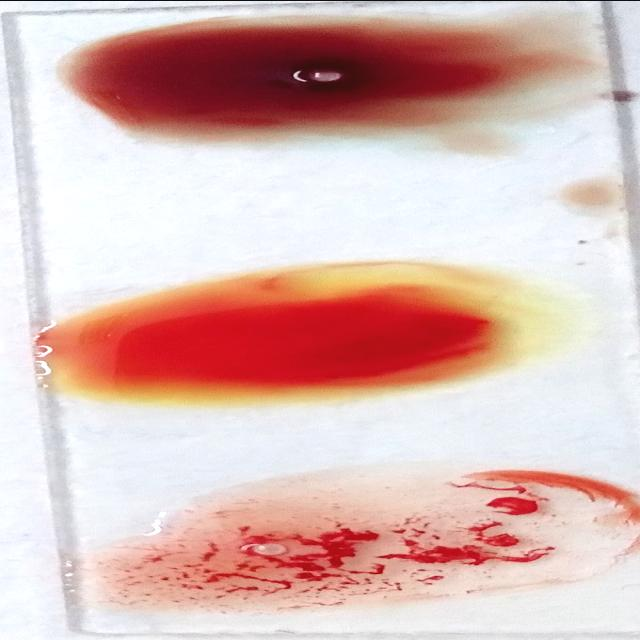D: (92, 464, 636, 610)
